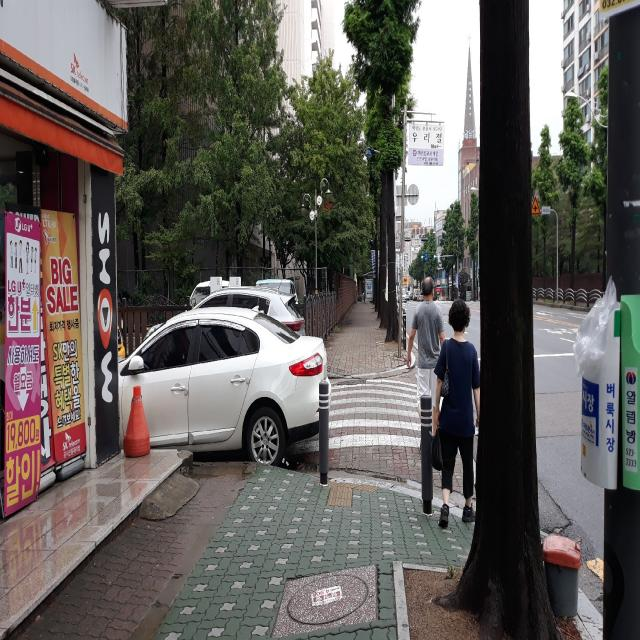횡단보도: (284, 378, 422, 456)
